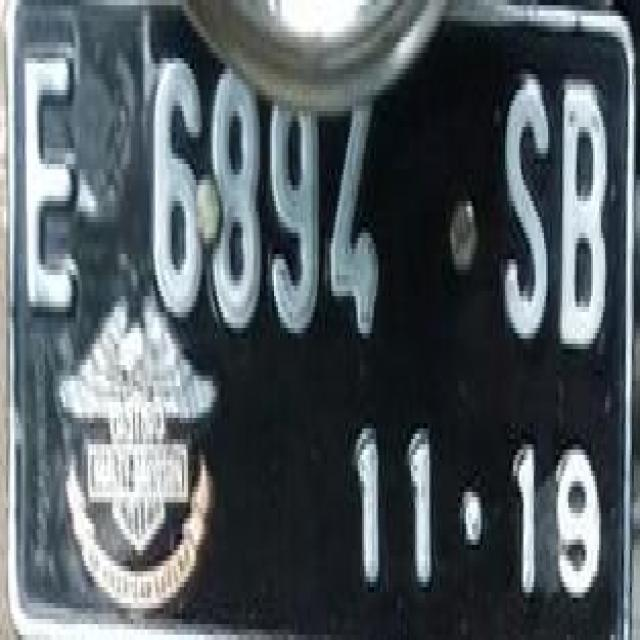4: (326, 74, 381, 344)
6: (143, 34, 204, 336)
8: (206, 35, 266, 368)
9: (270, 76, 321, 342)
B: (550, 55, 614, 368)
E: (17, 42, 85, 338)
S: (501, 53, 550, 365)
